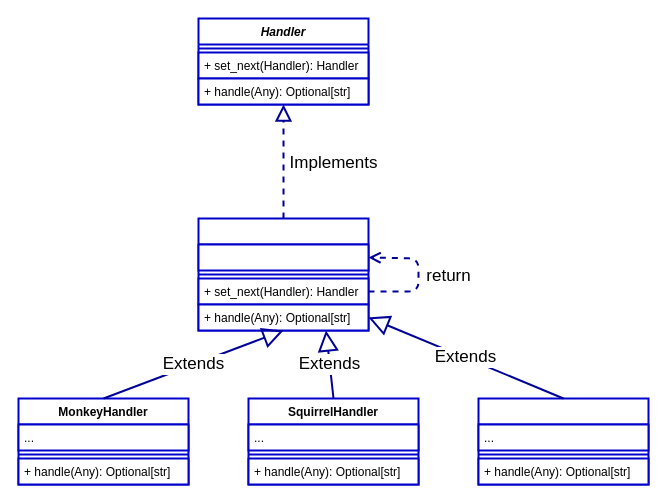
Some shapes in this 666 by 504 pixel diagram are drawn without their labels. The shapes that lost their labels are listed below. From the top down, each one's box as (x1, y1, x2, y2) in pixels, then its label:
(197, 243, 369, 271): # _next_handler: Handler
(197, 217, 369, 331): AbstractHandler
(477, 397, 649, 485): DogHandler
